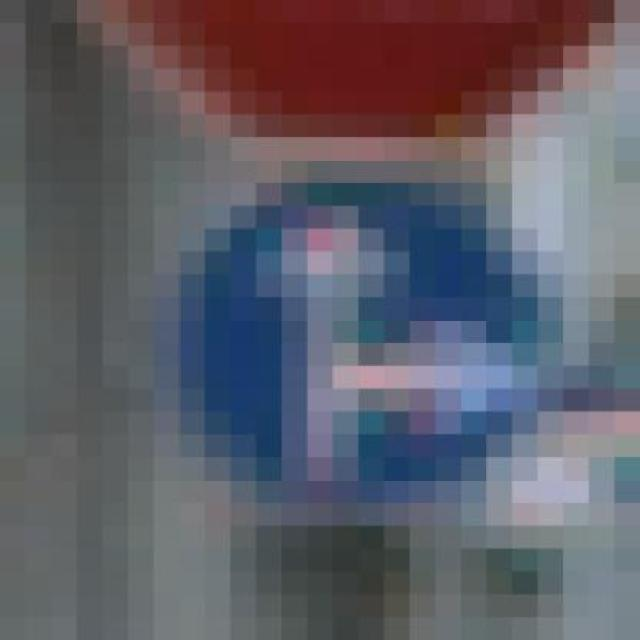Go Straight or Turn Right: (128, 114, 589, 526)
